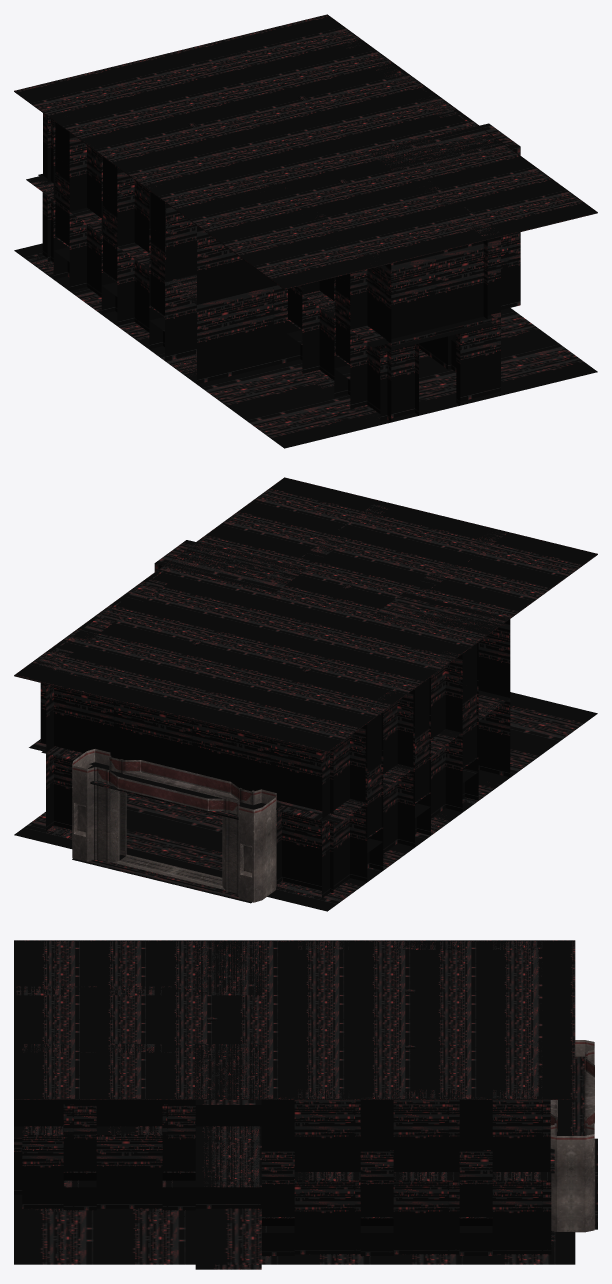
Rendered from endroom_opt.obj.
3 renders of one model, top to bottom at view 1: azimuth 30°, elevation 25°; view 2: azimuth 150°, elevation 25°; view 3: azimuth 270°, elevation 25°, orthographic. The views are drawn at different scales.
Bounding box in the file's own units: 1504 × 709 × 2264.
